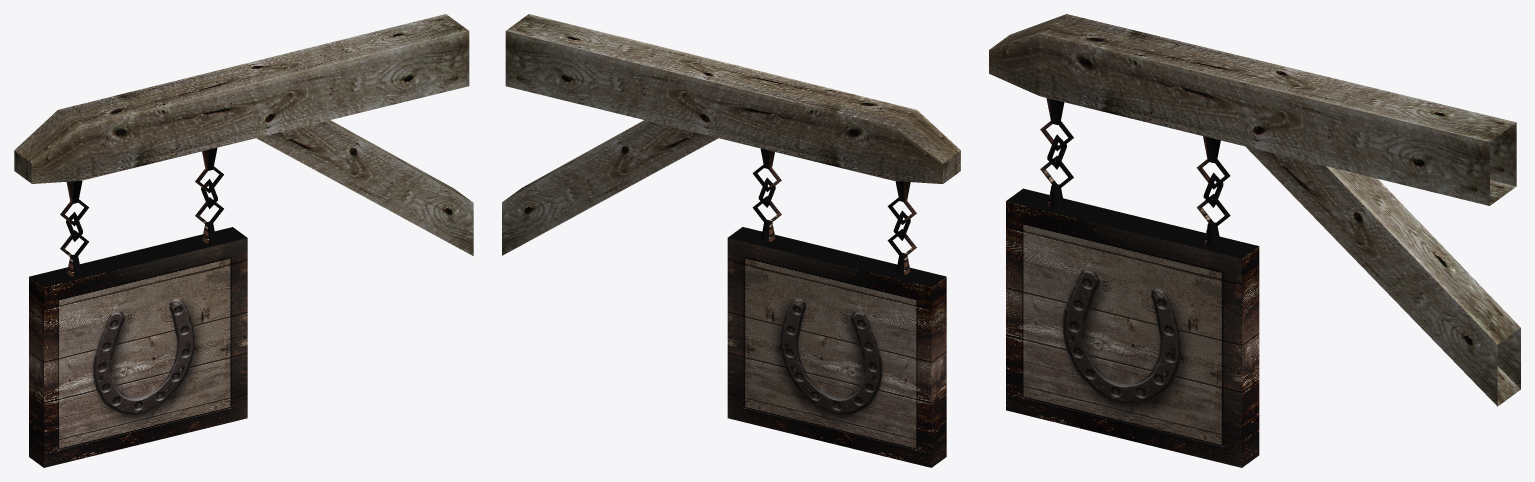
Rendered from sign1.fbx.
The picture shows the model from 3 angles, left to right: view 1: azimuth 30°, elevation 25°; view 2: azimuth 150°, elevation 25°; view 3: azimuth 330°, elevation 25°; orthographic projection. The views are drawn at different scales.
Visible parts, largest first — view 1: U3DMesh; view 2: U3DMesh; view 3: U3DMesh.
Boxes of the visible parts, box(x1,y1,x2,y2) form: U3DMesh: box(14, 14, 473, 467); U3DMesh: box(502, 14, 960, 467); U3DMesh: box(989, 14, 1520, 467).
Size of the model in its own units: 212 by 155 by 19.29.
